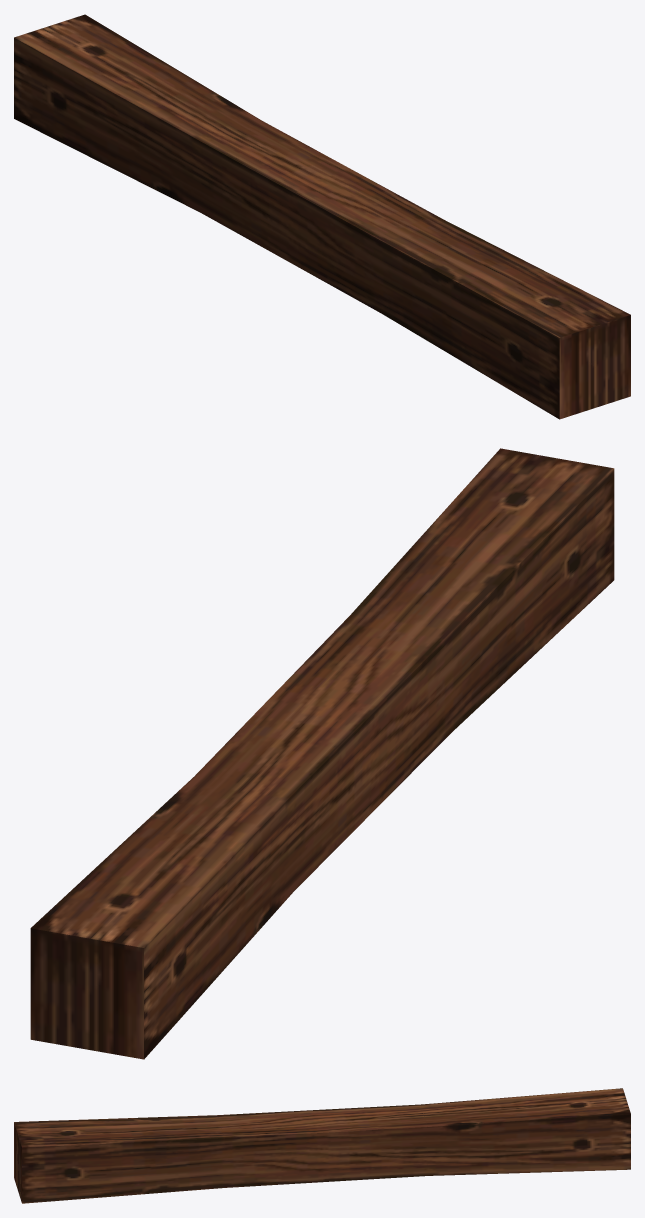
File: OVERHILL_A_01_POST42.fbx
The picture shows the model from 3 angles, top to bottom: view 1: azimuth 30°, elevation 25°; view 2: azimuth 150°, elevation 25°; view 3: azimuth 270°, elevation 25°; orthographic projection. The views are drawn at different scales.
Parts seen in each view (by area): view 1: OVERHILL_A_01_POST42; view 2: OVERHILL_A_01_POST42; view 3: OVERHILL_A_01_POST42.
Part boxes in pixels (x1,y1,x2,y2): OVERHILL_A_01_POST42: (14, 14, 630, 419); OVERHILL_A_01_POST42: (30, 448, 614, 1059); OVERHILL_A_01_POST42: (14, 1088, 630, 1203).
Bounding box in the file's own units: 6550 × 2861 × 28620.
Materials: 1 (1 with a texture image).
